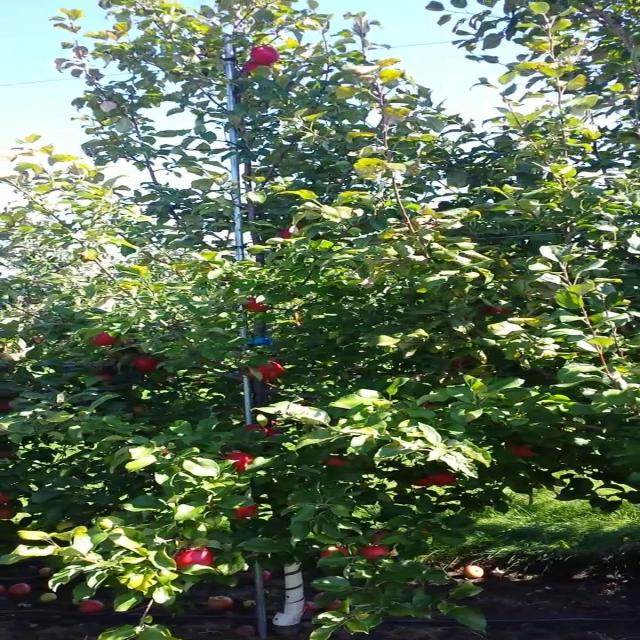apple: (177, 548, 215, 569), (248, 364, 284, 382), (227, 452, 256, 472), (362, 548, 393, 563), (92, 332, 119, 347), (255, 48, 281, 63), (433, 472, 459, 487), (134, 356, 158, 372), (511, 444, 535, 459), (234, 508, 260, 520), (248, 300, 270, 312), (326, 456, 348, 468), (483, 308, 512, 316), (248, 64, 270, 73), (284, 228, 300, 240), (376, 532, 391, 544), (326, 548, 348, 556), (412, 480, 434, 488), (284, 228, 297, 240), (262, 428, 279, 437), (269, 424, 281, 436), (248, 424, 265, 432), (326, 604, 343, 612), (6, 508, 16, 520), (99, 372, 114, 380), (454, 360, 469, 368), (134, 408, 149, 415), (426, 404, 439, 410), (6, 496, 14, 500)
